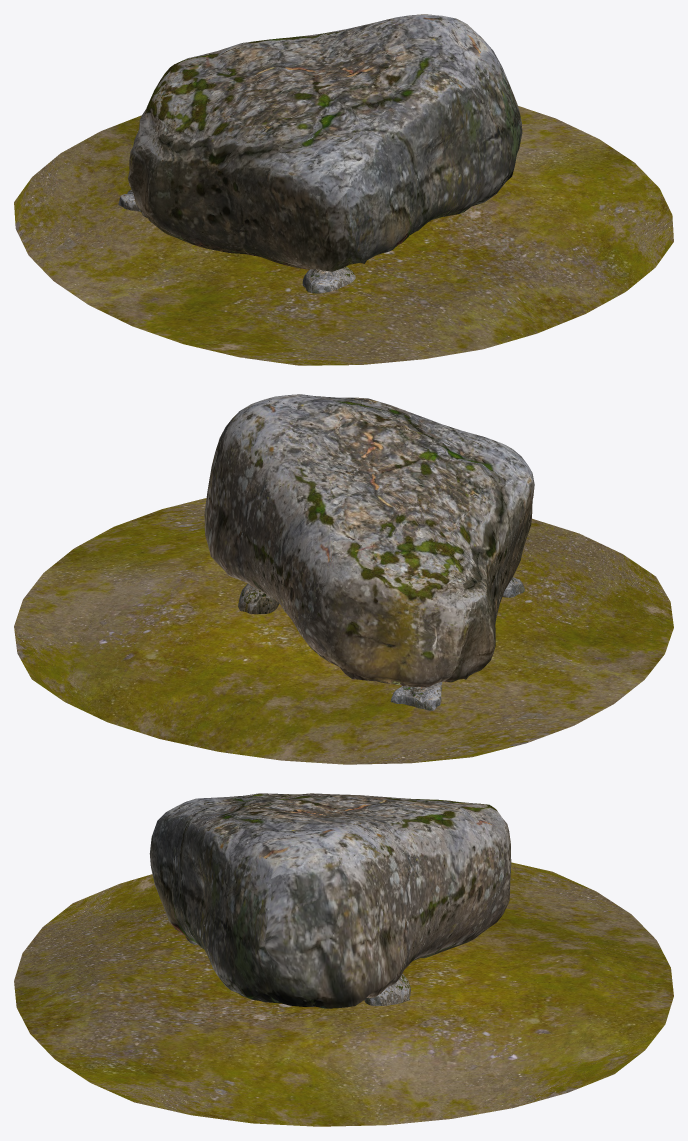
Rendered from Jalkakivi.gltf.
3 views of the same model, one above another, from view 1: azimuth 30°, elevation 25°; view 2: azimuth 150°, elevation 25°; view 3: azimuth 270°, elevation 25° (orthographic). The views are drawn at different scales.
Parts seen in each view (by area): view 1: Plane, Rock-14.002, Rock-14.001; view 2: Plane, Rock-14.002, Rock-14.004, Rock-14.005; view 3: Plane, Rock-14.002, Rock-14.005.
Part boxes in pixels (box(x1,y1,x2,y2)): Plane: box(14, 106, 673, 365); Rock-14.002: box(128, 14, 522, 271); Rock-14.001: box(302, 266, 355, 293); Plane: box(14, 498, 673, 764); Rock-14.002: box(204, 394, 534, 686); Rock-14.004: box(390, 682, 442, 710); Rock-14.005: box(238, 583, 279, 614); Plane: box(14, 862, 673, 1126); Rock-14.002: box(149, 793, 511, 1008); Rock-14.005: box(364, 974, 410, 1005).
Bounding box in the file's own units: 5.36 × 1.87 × 5.36.
Materials: 2 (2 with a texture image).
